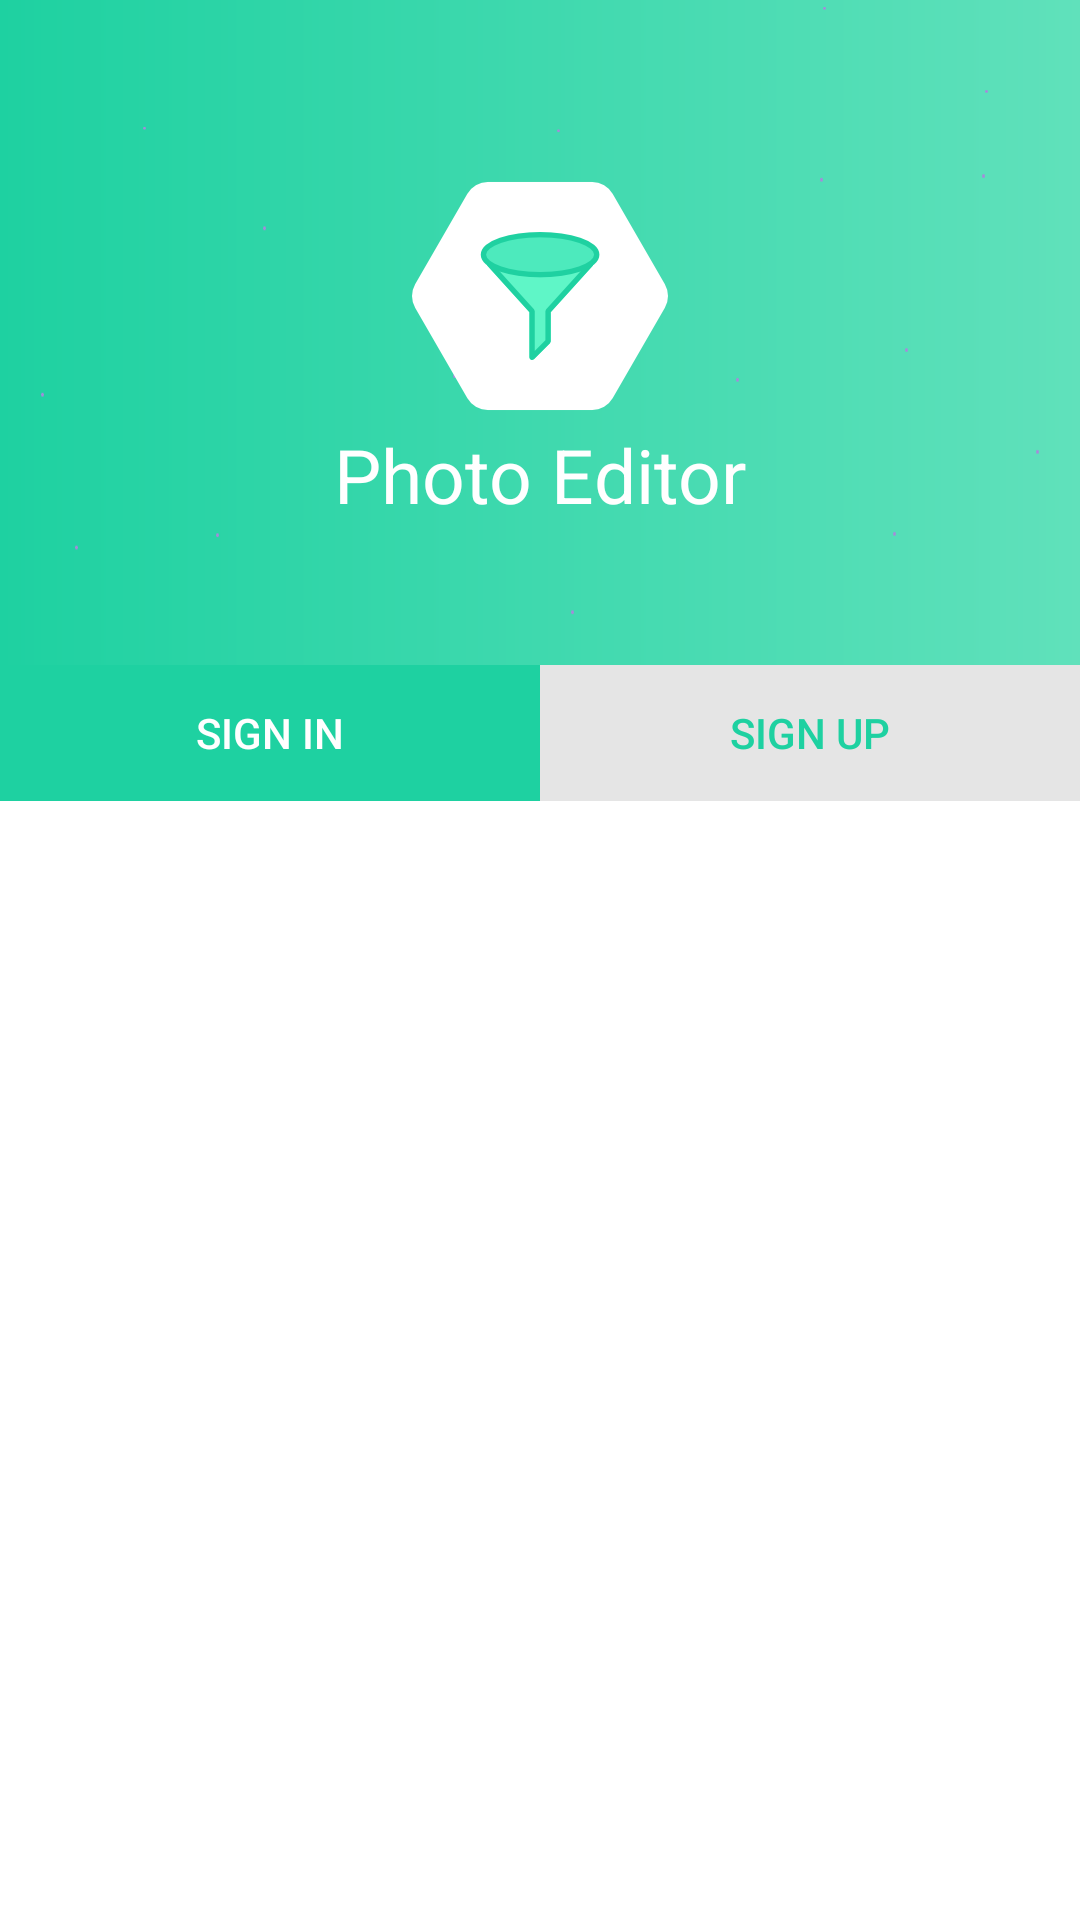

Where icons sit on this 1080 x 1920 app screen, as Rect(x1, y1, x2, y2):
filter: Rect(412, 182, 668, 410)
